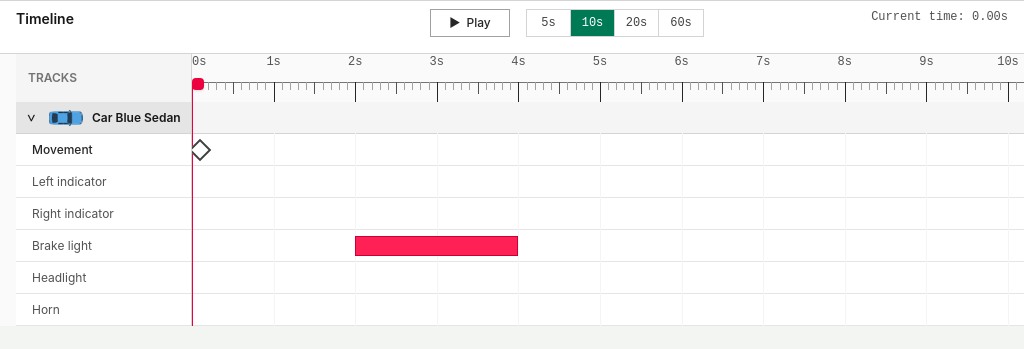
Test: F5.9 State Interval Editing › selects locally, synchronizes the source keyframe, and exposes controls
This screenshot has width=1024, height=349.
Click the button named "Select Brake light interval starting at 2.0 seconds" at (437, 246), box x1=356 y1=237 x2=517 y2=255
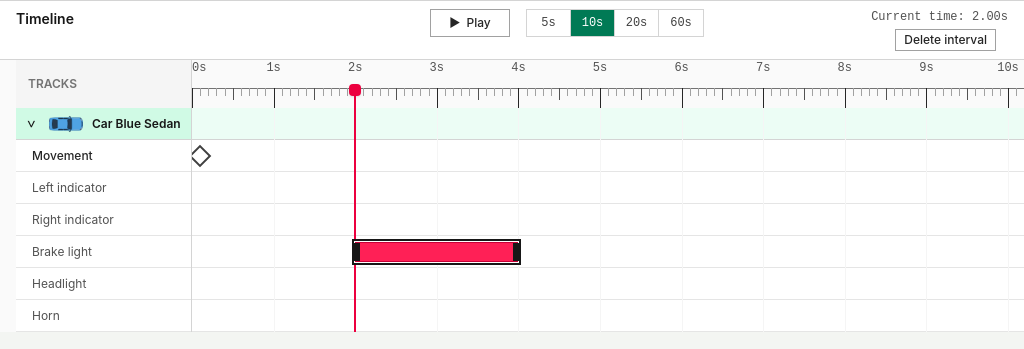
Now the text "Delete interval" is shown, box x1=895 y1=29 x2=996 y2=51
